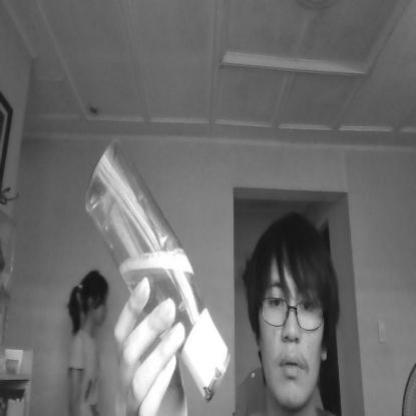Plastic Bottle: (82, 138, 233, 400)
